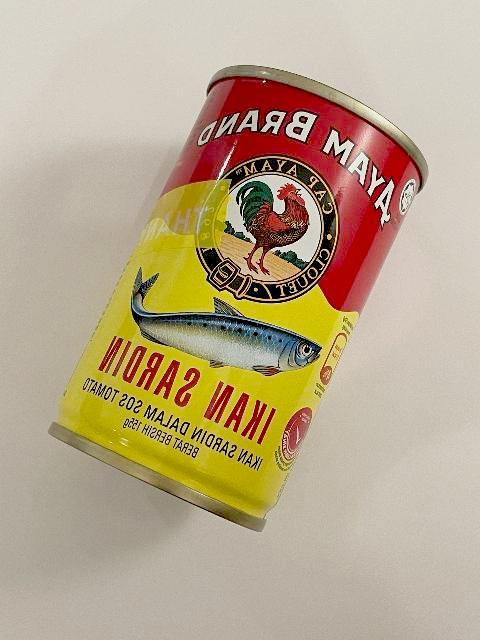foodcan: (46, 64, 431, 536)
